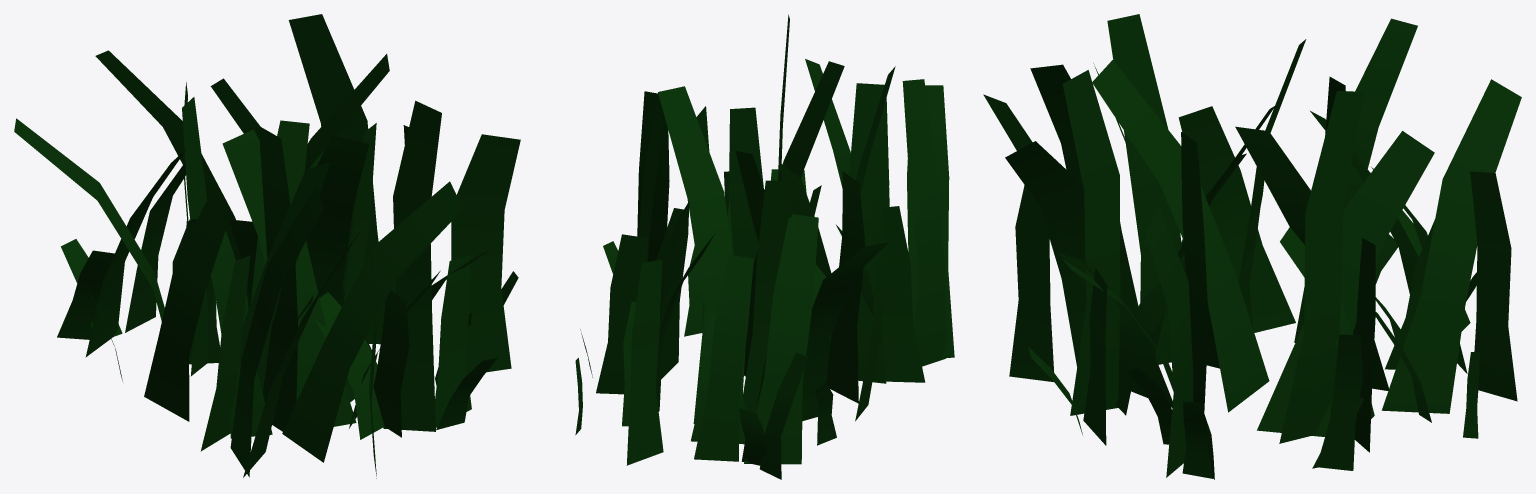
File: Grass_02.fbx
3 views of the same model, side by side, from view 1: azimuth 30°, elevation 25°; view 2: azimuth 150°, elevation 25°; view 3: azimuth 270°, elevation 25° (orthographic). The views are drawn at different scales.
Visible parts, largest first — view 1: grass_02_LOD0; view 2: grass_02_LOD0; view 3: grass_02_LOD0.
Part boxes in pixels (x1,y1,x2,y2): grass_02_LOD0: (14, 14, 520, 478); grass_02_LOD0: (575, 14, 954, 479); grass_02_LOD0: (983, 14, 1521, 479).
Size of what is drawn, in the model's own units: 50.51 by 39.67 by 55.73.
